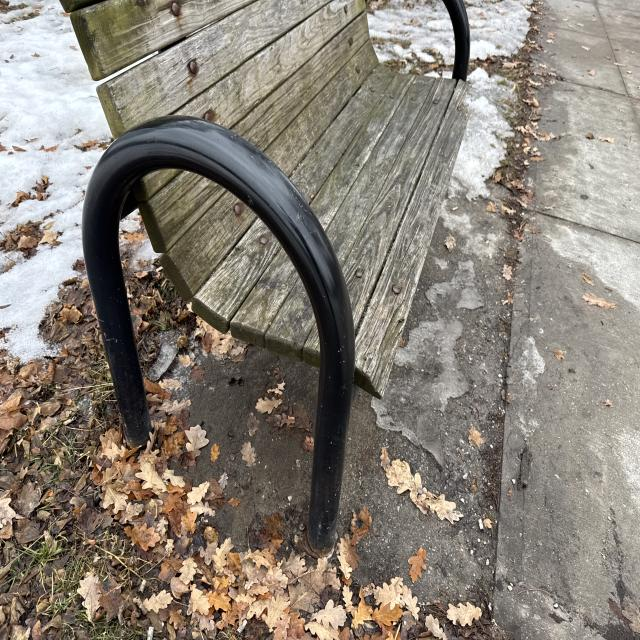Bench: (65, 6, 463, 540)
